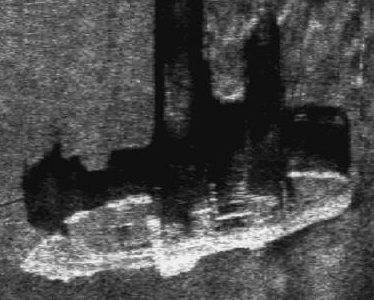ship: (14, 165, 356, 282)
